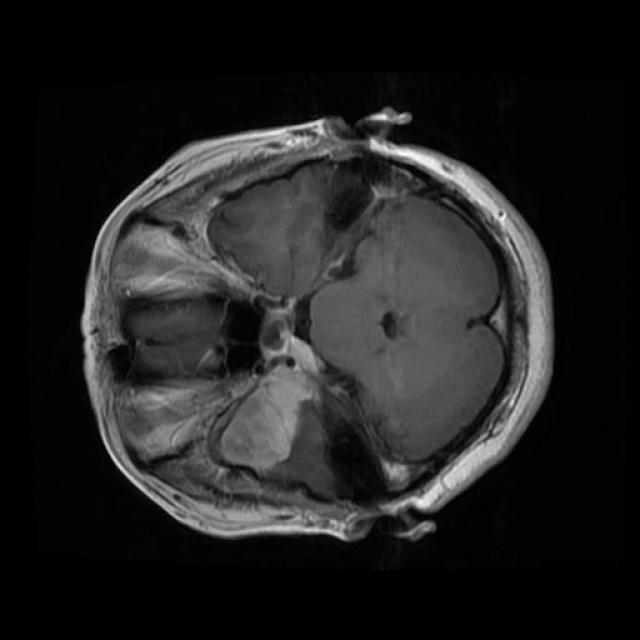Meningioma: (220, 364, 311, 470)
